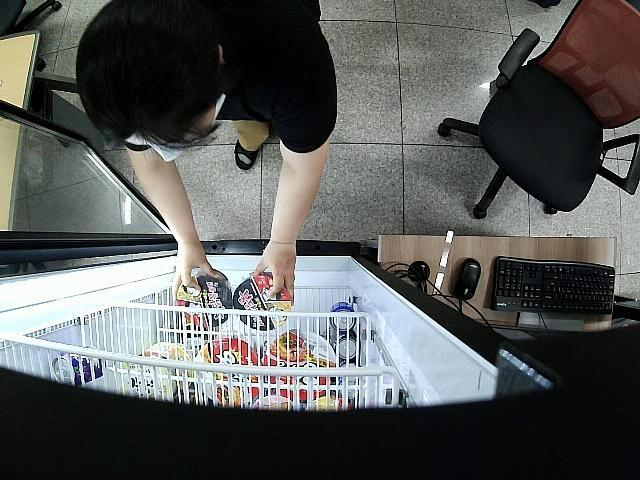07_buldak_L: (177, 267, 232, 328), (235, 274, 292, 330)
